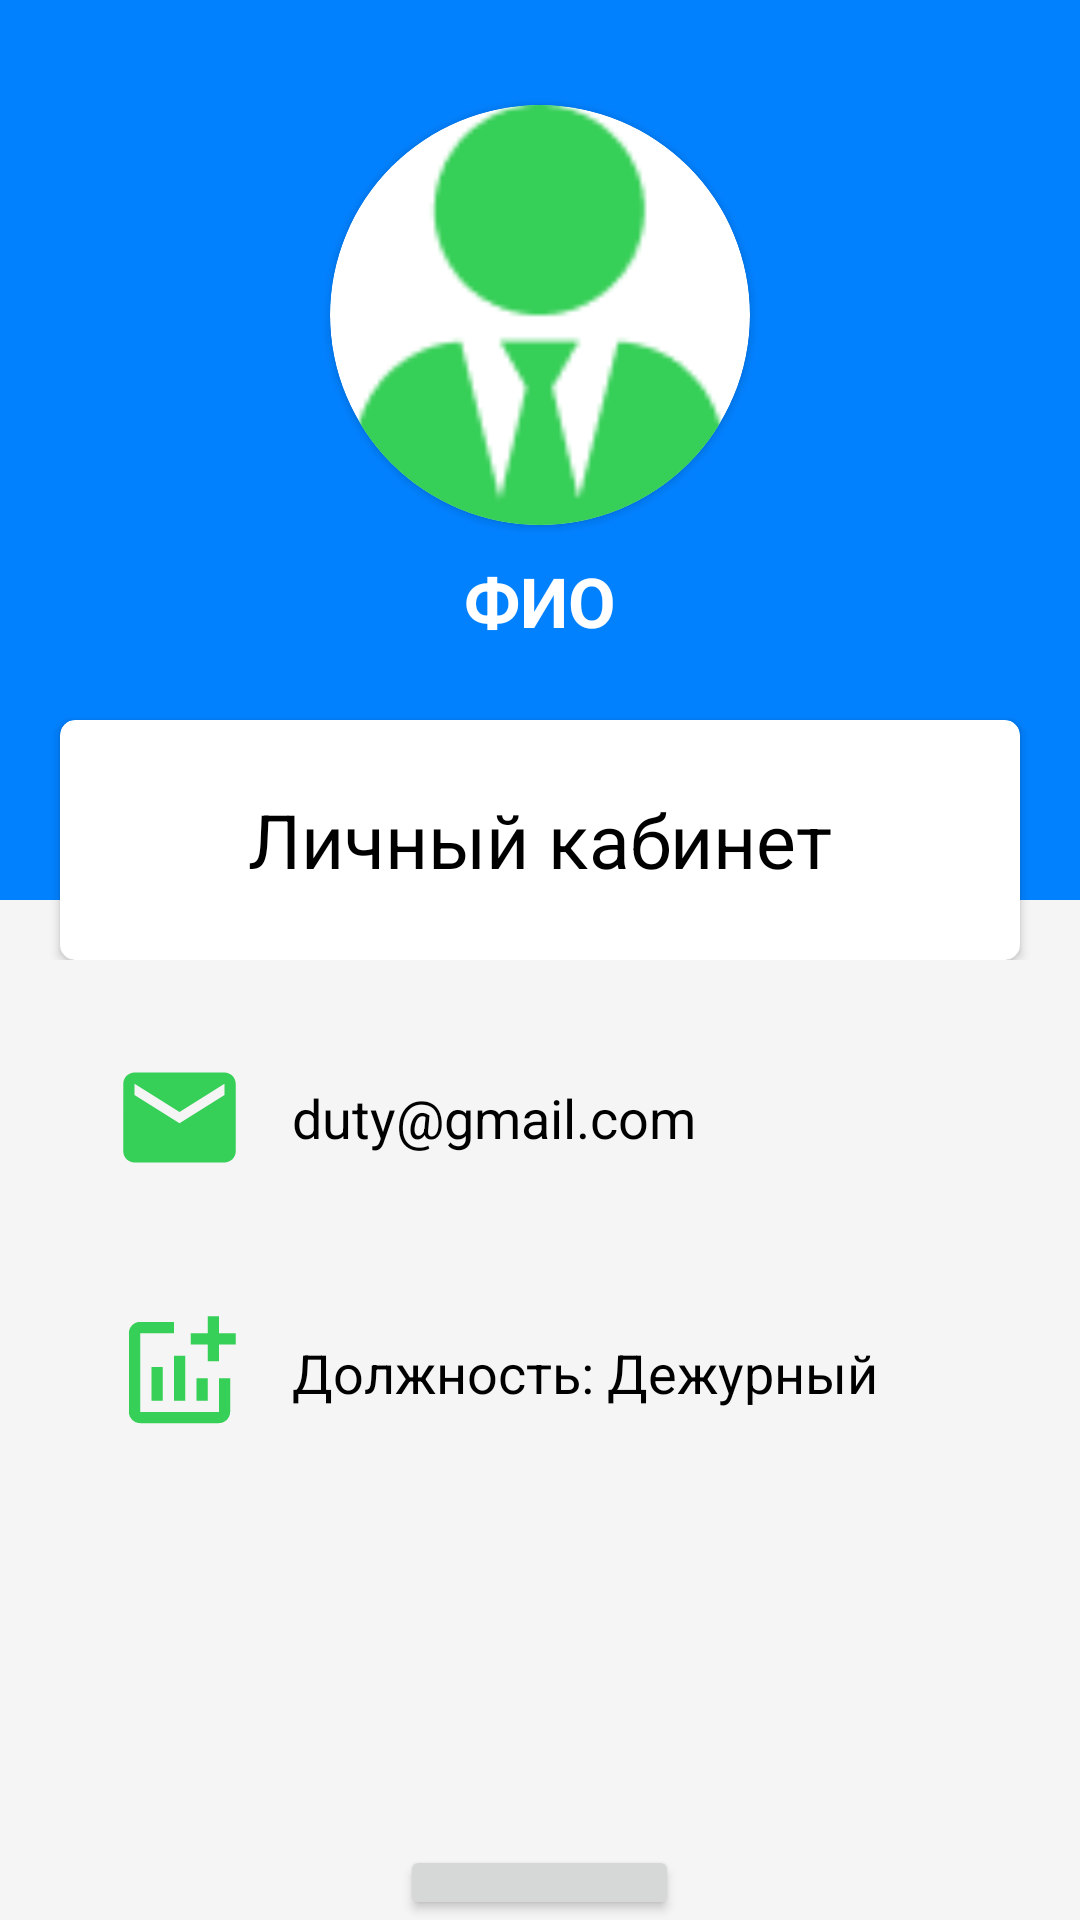

Screen size 1080x1920. Icon name, then its center in pixels as [x,y]:
addchart: [182,1370]
email: [179,1117]
